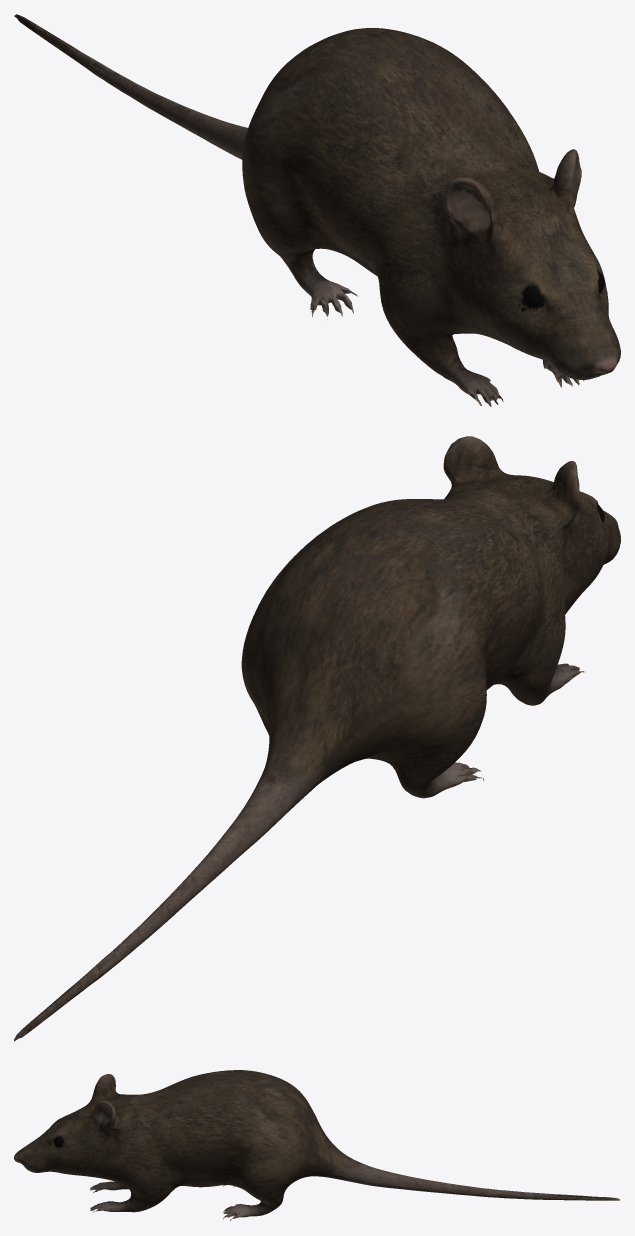
The model's file is street_rat.glb.
3 views of the same model, one above another, from view 1: azimuth 30°, elevation 25°; view 2: azimuth 150°, elevation 25°; view 3: azimuth 270°, elevation 25° (orthographic). The views are drawn at different scales.
Parts seen in each view (by area): view 1: mesh; view 2: mesh; view 3: mesh.
Boxes of the visible parts, left/top/right/bottom form: mesh: left=14, top=14, right=620, bottom=406; mesh: left=14, top=436, right=620, bottom=1041; mesh: left=14, top=1070, right=620, bottom=1221.
Size of the model in its own units: 13.25 by 14 by 61.54.
1 material, 1 textured.
